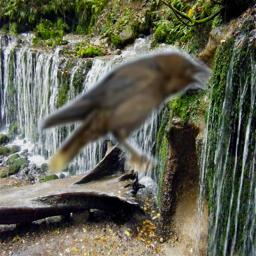Crow: (35, 44, 213, 174)
